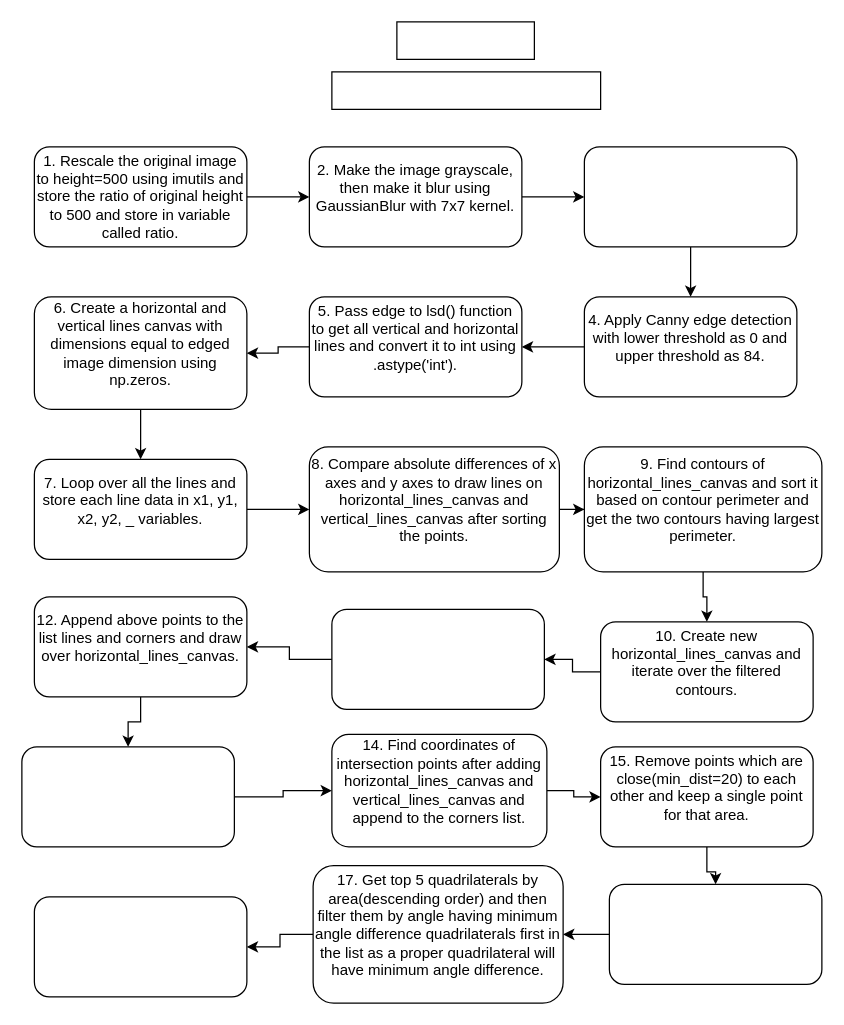
Some shapes in this 844 by 1025 pixel diagram are drawn without their labels. The shapes that lost their labels are listed below. From the top down, each one's box as (x1, y1, x2, y2) in pixels, then its label:
(396, 21, 534, 59): OpenCV Document Scanner
(331, 71, 601, 109): https://github.com/vikassnwl/OpenCV-Document-Scanner
(583, 146, 797, 247): 3. Apply morphological close to the blur image with a 9x9 kernel.
(331, 608, 544, 709): 11. Squeeze the contour and find points min_x, left_y, max_x, right_y.
(21, 746, 234, 847): 13. Apply steps from 9 to 12 on vertical_lines_canvas as well.
(33, 896, 247, 997): 18. Get the first quad from the quad list and validate it.
(608, 883, 822, 984): 16. Make combinations of the points having 4 points in each combination.
